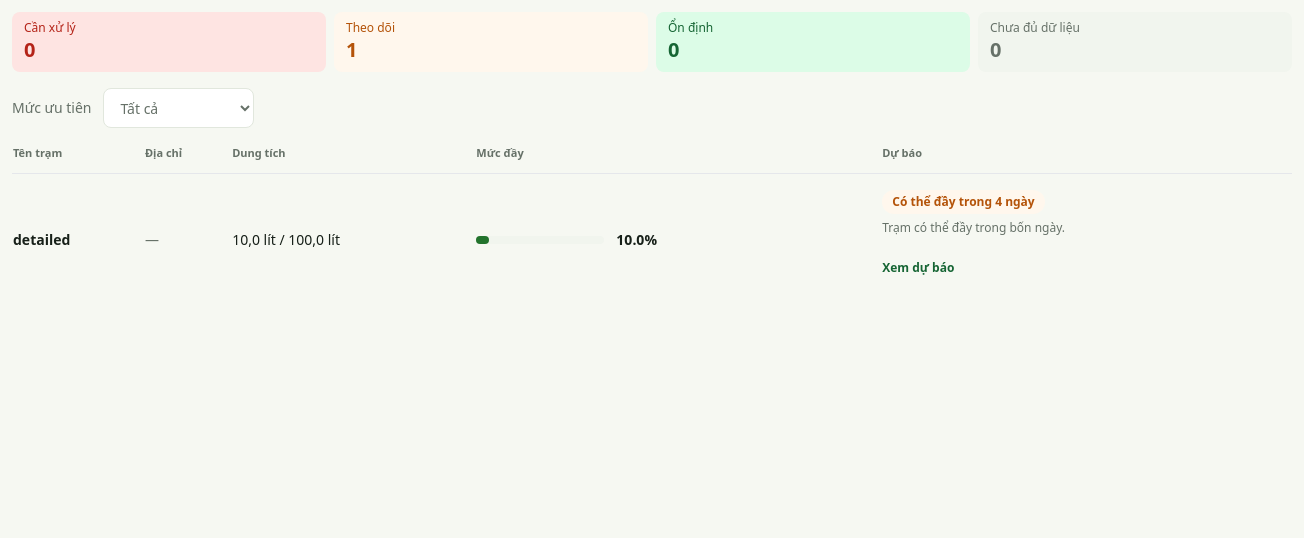
Test: hiển thị đầy đủ dữ liệu chi tiết forecast
Click the button "Xem dự báo" at {"x": 918, "y": 268}, box [882,246,954,290]
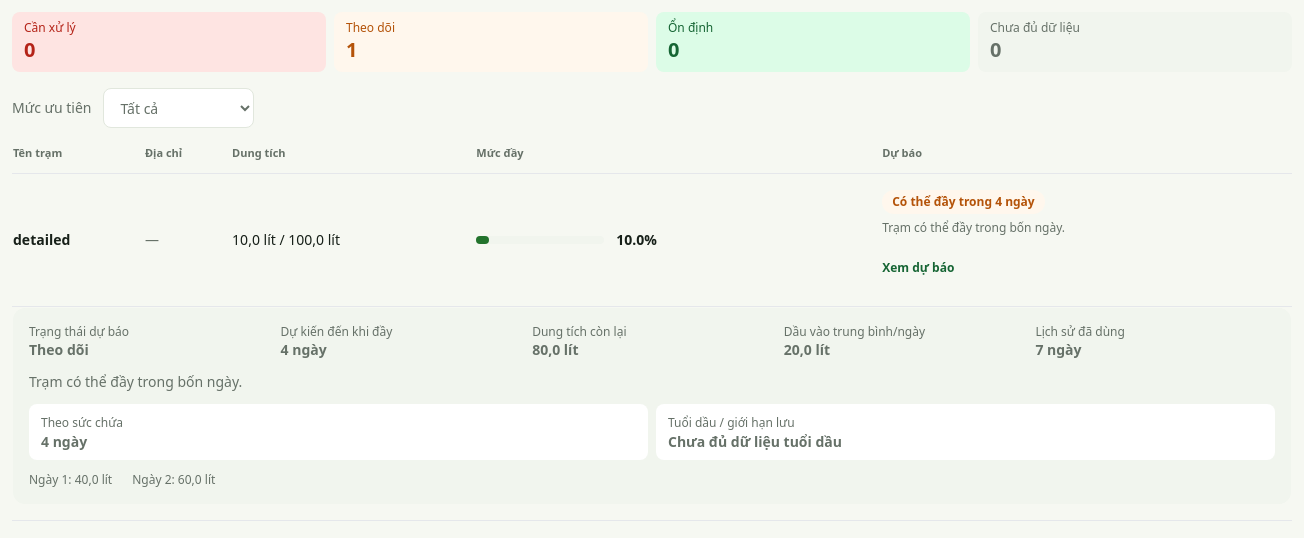
Now the text "Theo dõi" below "Trạng thái dự báo" is shown, box [29,340,89,359]
Now the text "4 ngày" is shown 2 times, box [281,340,327,359]; [41,432,87,451]
Now the text "80,0 lít" is shown, box [532,340,578,359]
